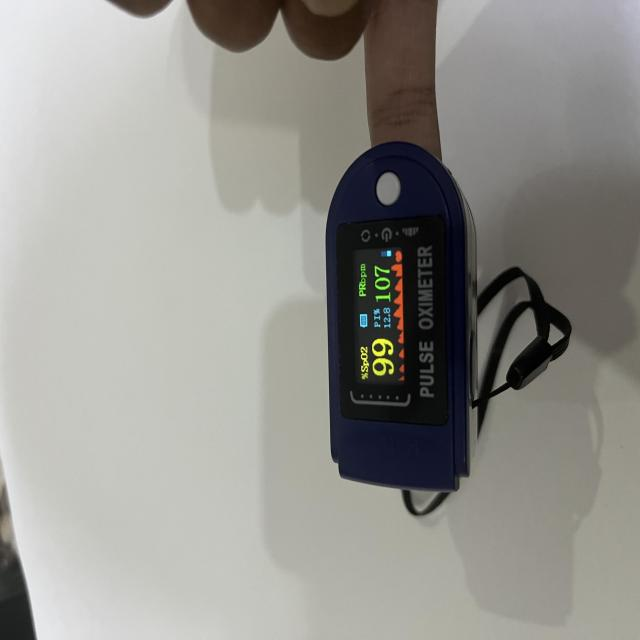spo2: (324, 142, 479, 516)
